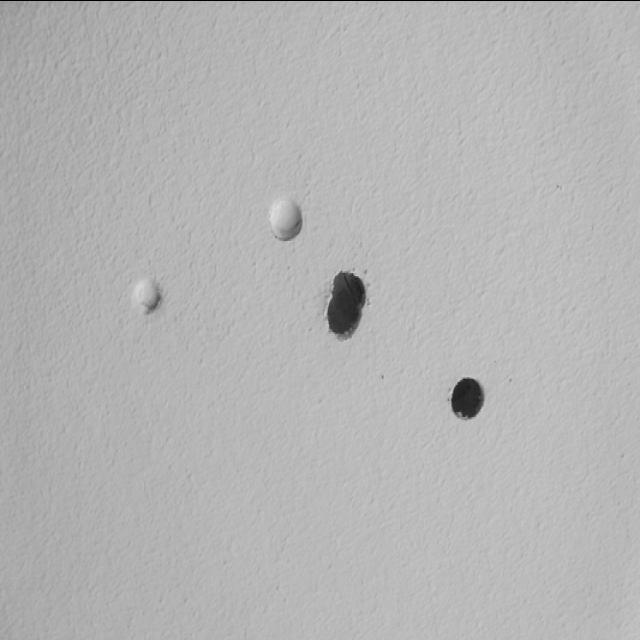pin holes: (313, 253, 397, 350), (425, 368, 496, 434)
